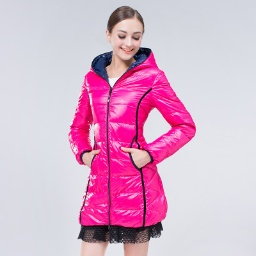face: (102, 4, 149, 75)
